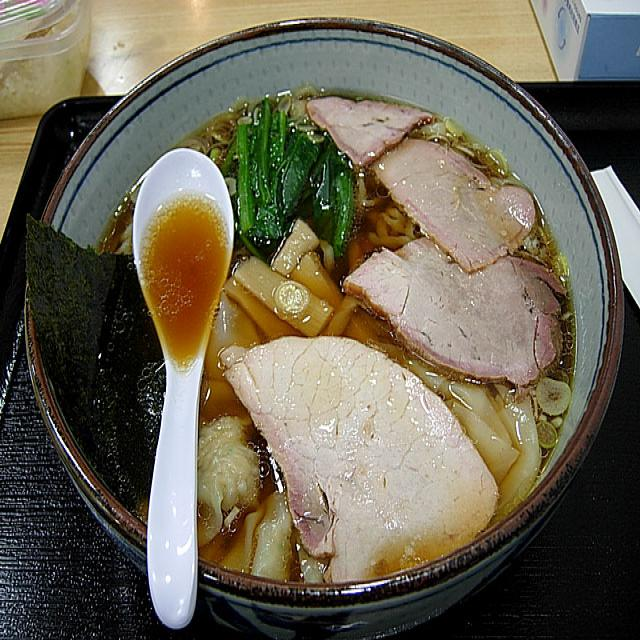面条主食: (46, 64, 592, 589)
